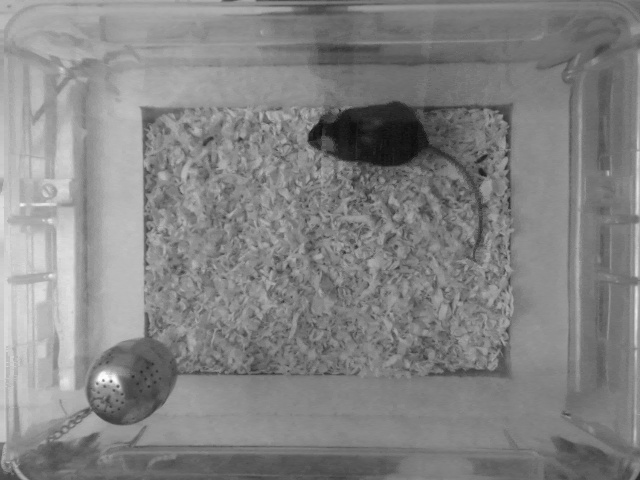mice: (305, 99, 490, 255)
